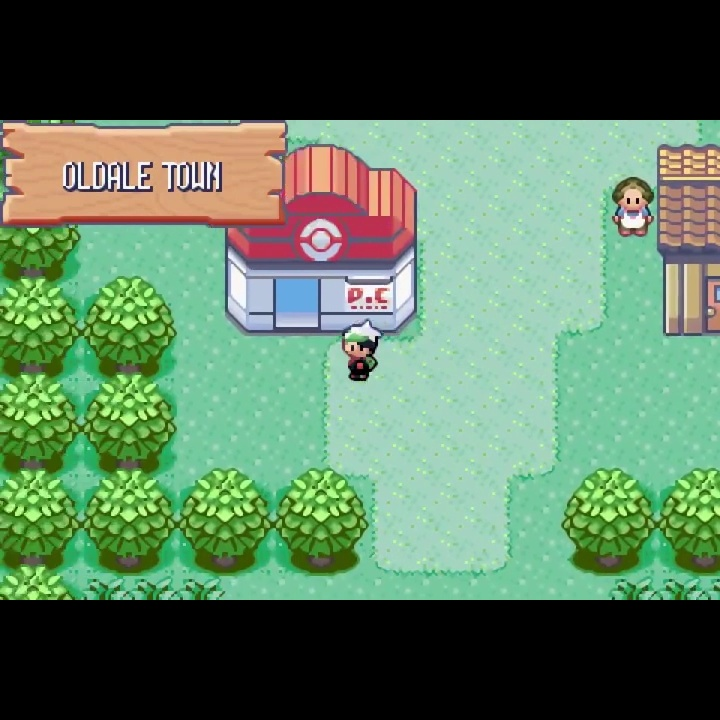grass: (605, 574, 657, 600), (658, 573, 706, 600), (80, 575, 130, 600), (177, 576, 226, 600), (128, 576, 177, 600)
house: (656, 142, 720, 339)
npc: (610, 173, 656, 244), (339, 319, 385, 384)
pokecen: (223, 140, 419, 338)
wall: (562, 463, 658, 575), (272, 467, 368, 577), (175, 468, 272, 576), (80, 468, 176, 575), (82, 371, 178, 471), (82, 275, 177, 373), (1, 468, 82, 566), (1, 372, 81, 470), (1, 277, 81, 373), (658, 465, 720, 574), (1, 227, 80, 285), (1, 565, 81, 601)
